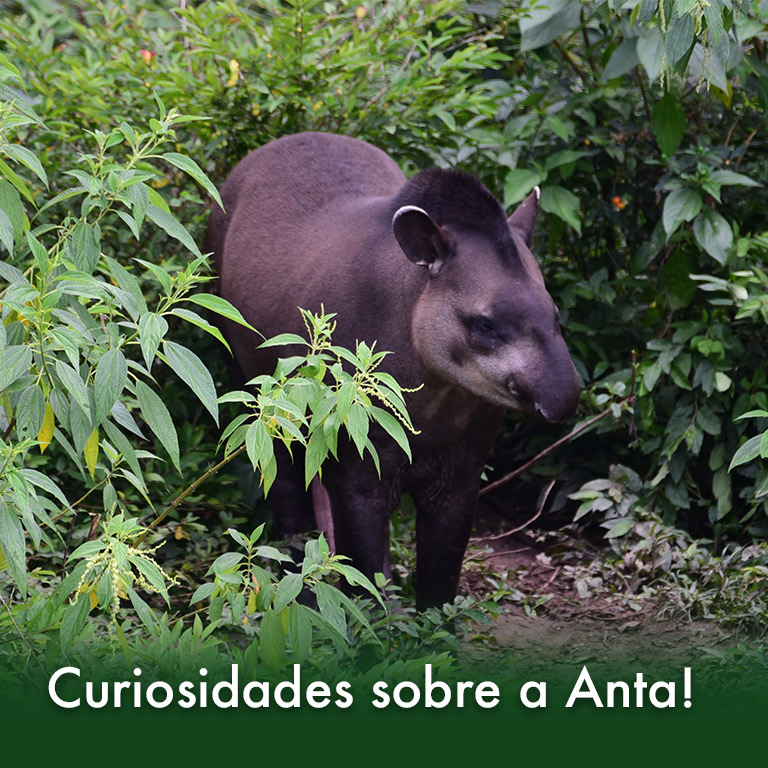Anta: (198, 130, 586, 639)
